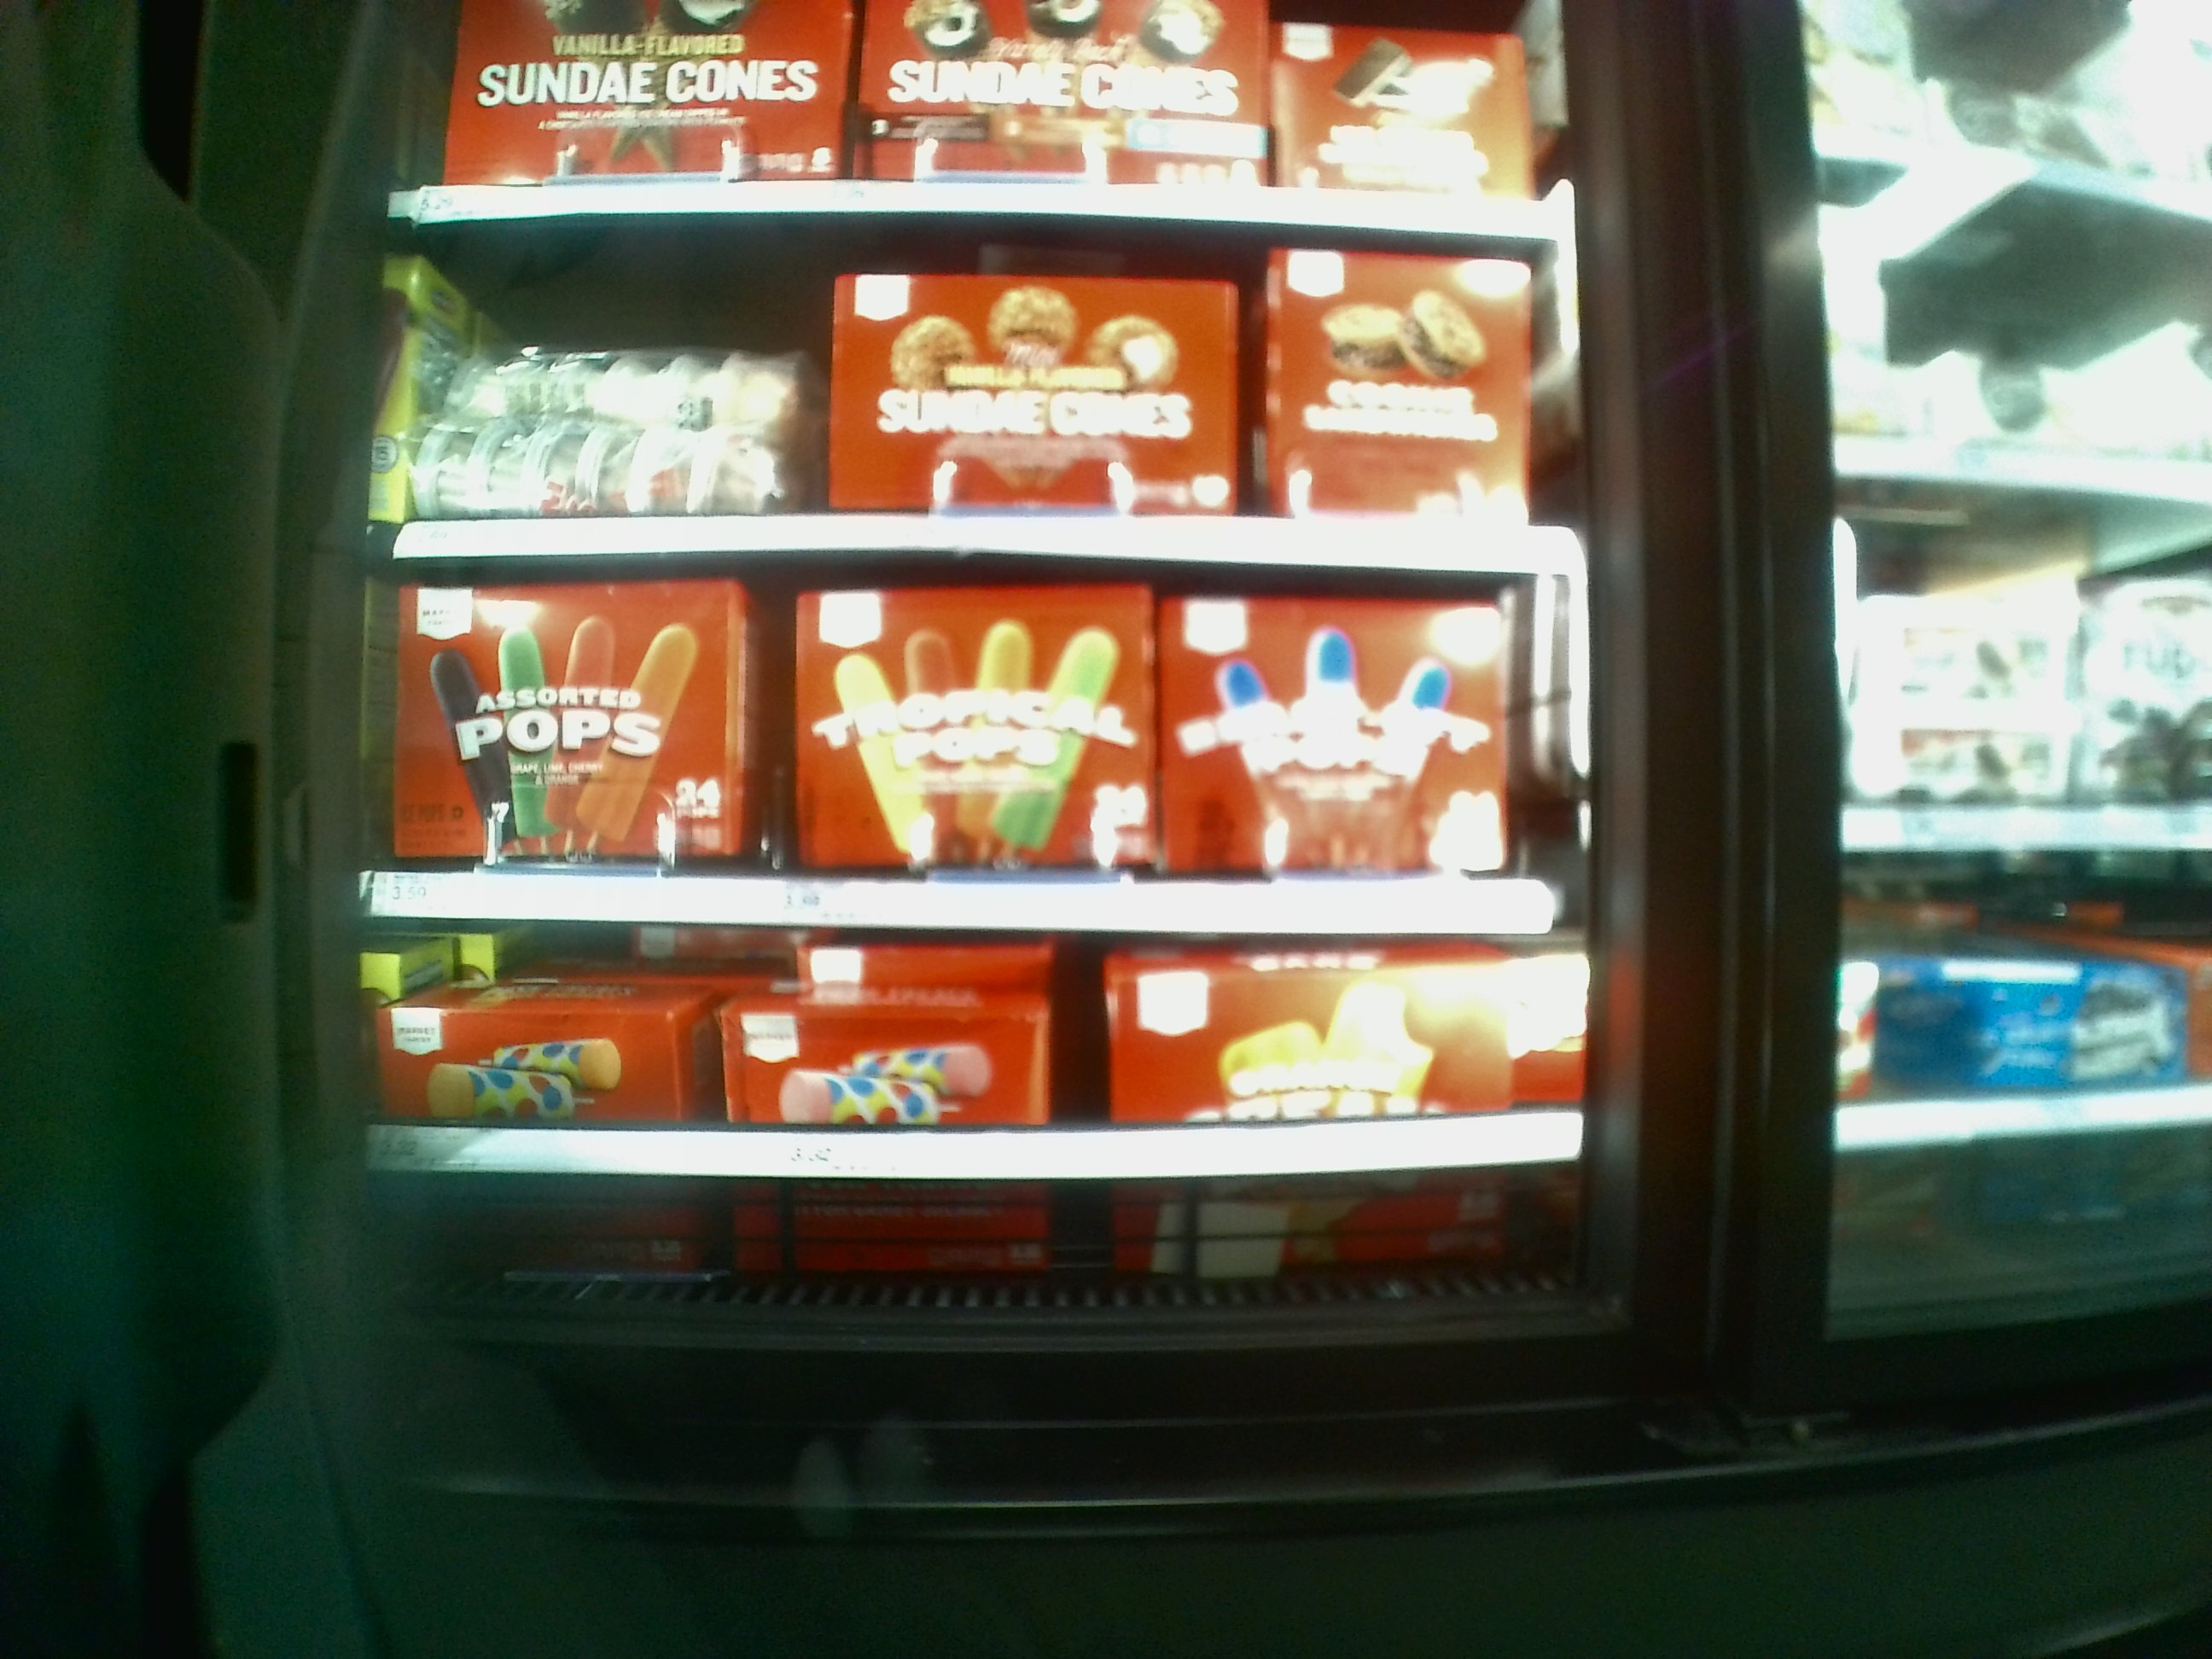shelf: (357, 932, 1575, 1317), (361, 570, 1583, 941), (385, 216, 1585, 568)
